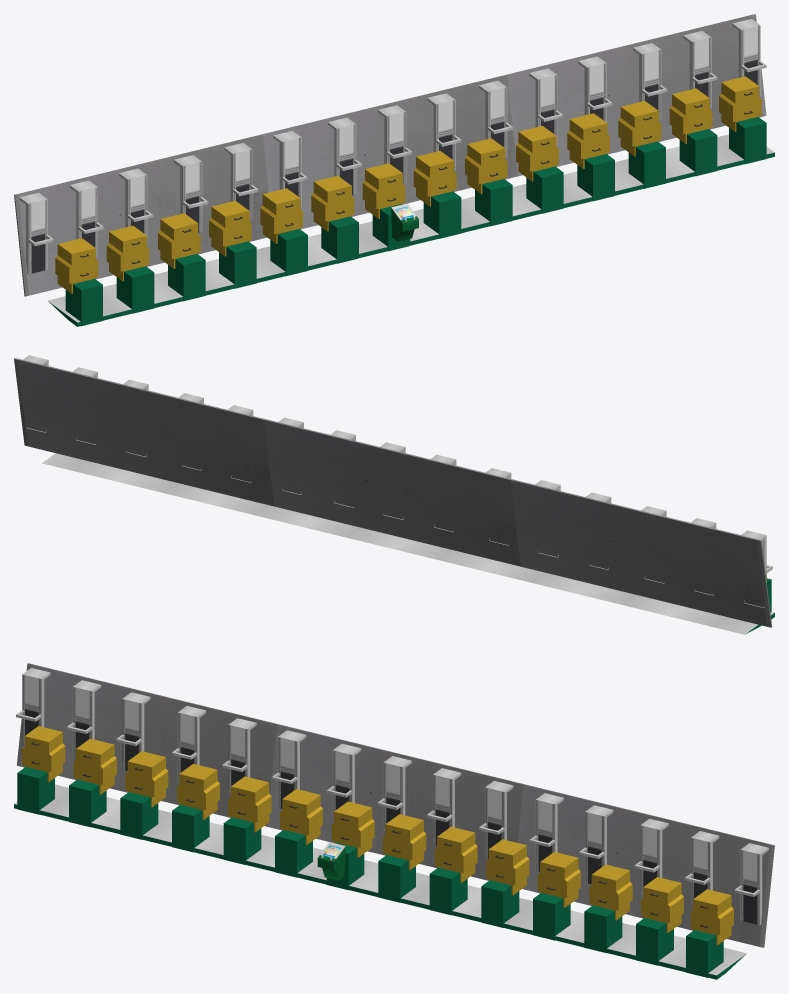
3 renders of one model, top to bottom at view 1: azimuth 30°, elevation 25°; view 2: azimuth 150°, elevation 25°; view 3: azimuth 330°, elevation 25°, orthographic.
Visible parts, largest first — view 1: 330suojinji; view 2: 330suojinji; view 3: 330suojinji.
Boxes of the visible parts, <box> form: 330suojinji: <box>14,14,774,326</box>; 330suojinji: <box>14,355,774,634</box>; 330suojinji: <box>14,663,774,979</box>.
Size of the model in its own units: 26.73 by 3.79 by 3.17.
8 materials, 8 textured.
